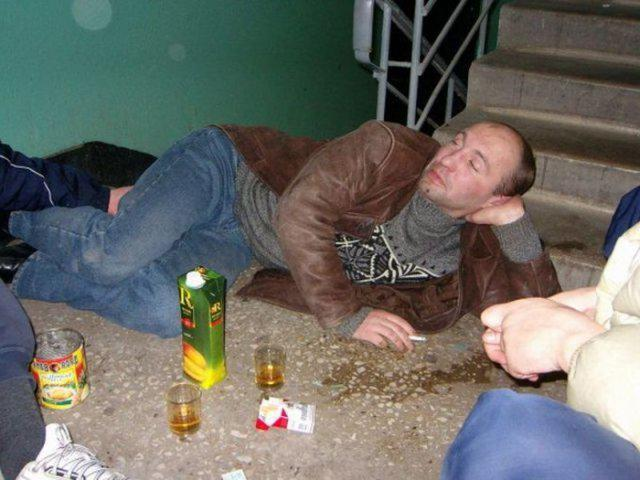Drunk: (424, 127, 516, 209)
